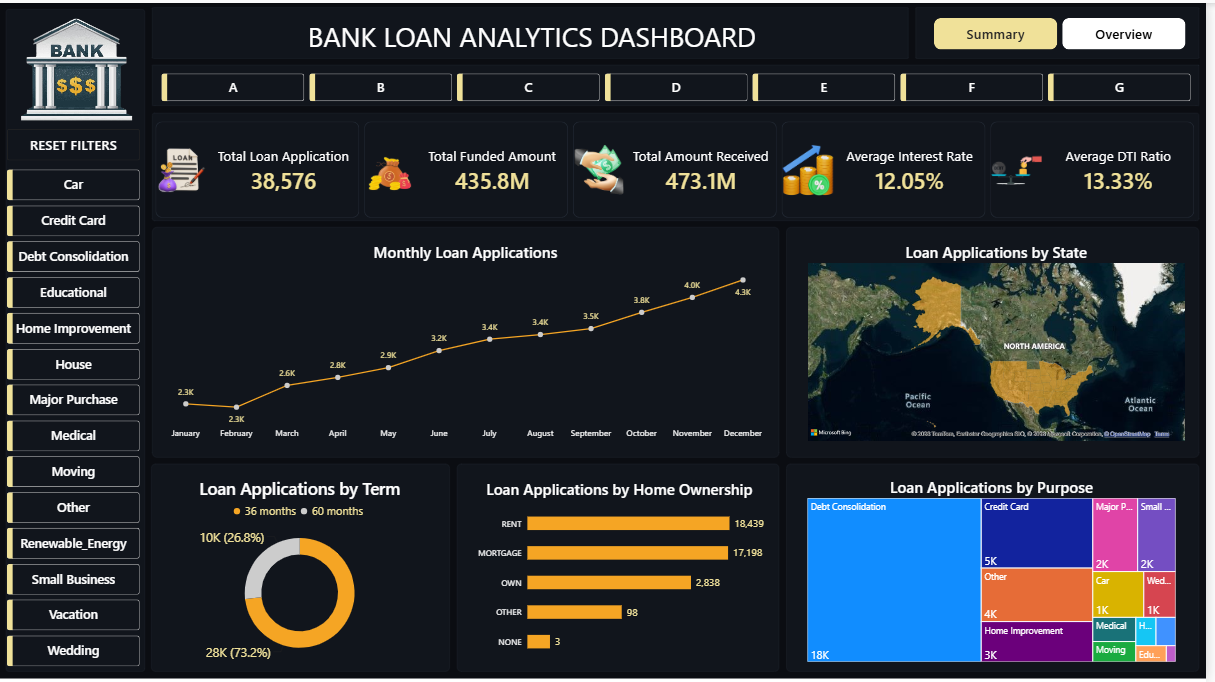

The page's visual inventory and layout, read from the dashboard file:
{"tool":"powerbi","page":{"name":"Overview","canvas":[1920,1080],"ordinal":1},"visuals":[{"type":"cardVisual","fields":{"Data":["financial_loan.Total Loan Application","financial_loan.Total Funded Amount","financial_loan.Total Amount Received","financial_loan.Average Interest Rate","financial_loan.Average DTI Rate"]},"box":[250,187.8,1653.3,153.3],"z":0},{"type":"image","box":[0,0,250,210],"z":1000},{"type":"advancedSlicerVisual","fields":{"Values":["financial_loan.PURPOSE"]},"box":[14.3,264.3,211.4,802.9],"z":2000},{"type":"advancedSlicerVisual","fields":{"Values":["financial_loan.GRADE"]},"box":[260,113,1643,44],"z":3000},{"type":"actionButton","box":[14.3,200,211.4,50],"z":4000},{"type":"textbox","box":[250,24.3,1197.1,68.6],"z":5000},{"type":"pageNavigator","box":[1488.6,24.3,400,50],"z":6000},{"type":"lineChart","title":"Monthly Loan Applications","fields":{"Category":["financial_loan.ISSUE_DATE.Variation.Date Hierarchy.Month"],"Y":["financial_loan.Total Loan Application"]},"box":[250,365.7,985.7,348.6],"z":7000},{"type":"donutChart","title":"Loan Applications by Term","fields":{"Category":["financial_loan.TERM"],"Y":["financial_loan.Total Loan Application"]},"box":[250,738.6,458.6,328.6],"z":8000},{"type":"clusteredBarChart","title":"Loan Applications by Home Ownership","fields":{"Category":["financial_loan.HOME_OWNERSHIP"],"Y":["financial_loan.Total Loan Application"]},"box":[742.9,741.4,492.9,321.4],"z":9000},{"type":"treemap","title":"Loan Applications by Purpose","fields":{"Group":["financial_loan.PURPOSE"],"Values":["financial_loan.Total Loan Application"]},"box":[1271.4,738.6,617.1,324.3],"z":10000},{"type":"filledMap","title":"Loan Applications by State","fields":{"Category":["financial_loan.ADDRESS_STATE"]},"box":[1271.7,365,632.3,348.3],"z":11000}]}

Visuals, with their boxes in screenshot pixels (x1, y1, x2, y2), scaled from the page's 1920x1080 canvas onto the 1215x682 screenshot:
cardVisual - financial_loan.Total Loan Application x financial_loan.Total Funded Amount: bbox=(158, 119, 1204, 215)
image: bbox=(0, 0, 158, 133)
advancedSlicerVisual - financial_loan.PURPOSE: bbox=(9, 167, 143, 674)
advancedSlicerVisual - financial_loan.GRADE: bbox=(165, 71, 1204, 99)
actionButton: bbox=(9, 126, 143, 158)
textbox: bbox=(158, 15, 916, 59)
pageNavigator: bbox=(942, 15, 1195, 47)
"Monthly Loan Applications" lineChart: bbox=(158, 231, 782, 451)
"Loan Applications by Term" donutChart: bbox=(158, 466, 448, 674)
"Loan Applications by Home Ownership" clusteredBarChart: bbox=(470, 468, 782, 671)
"Loan Applications by Purpose" treemap: bbox=(805, 466, 1195, 671)
"Loan Applications by State" filledMap: bbox=(805, 230, 1205, 450)
